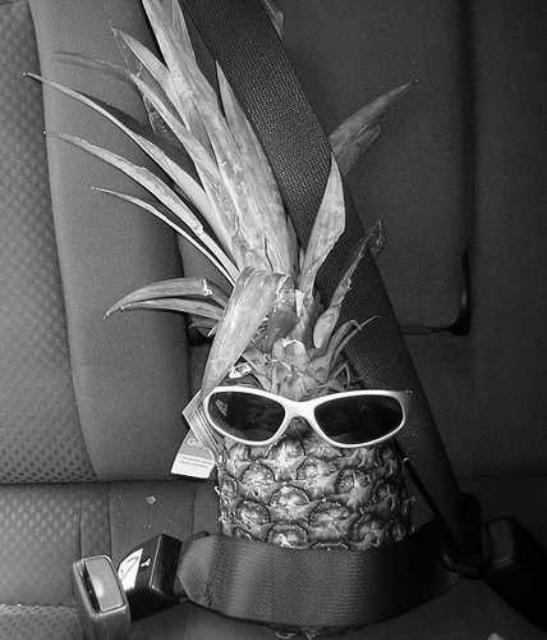Seatbelt: (142, 1, 464, 634)
